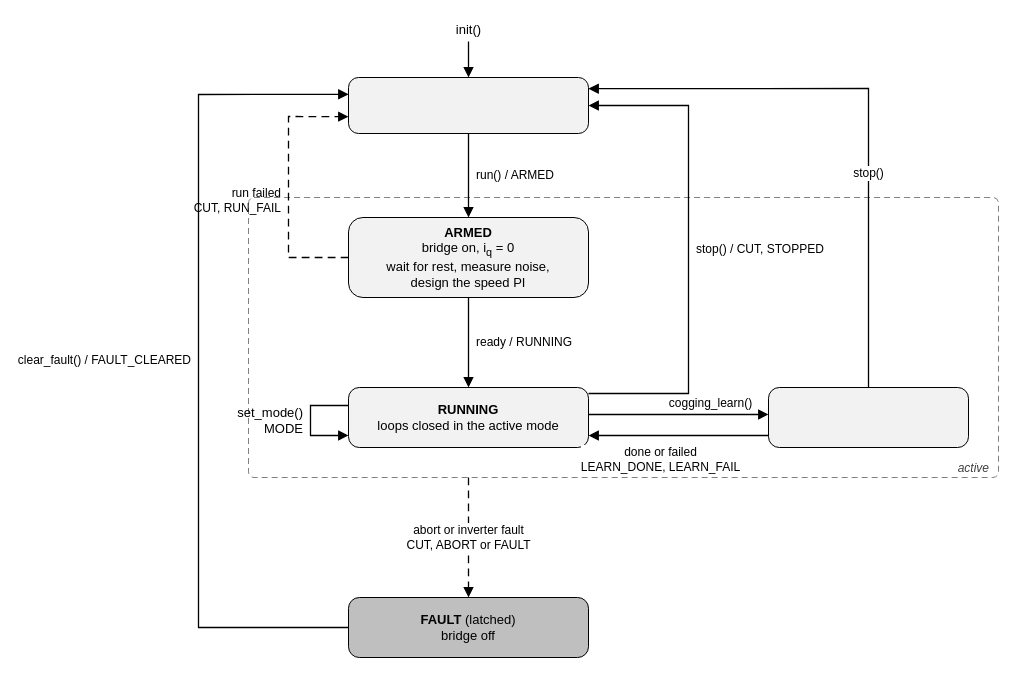
The diagram is 1016 pixels wide and 675 high, and some of its shapes have lost their labels. Each missing label, with the centre of its shape:
IDLE bridge off, encoder still read: point 468,105
LEARNING cogging sweep (position mode): point 868,417
